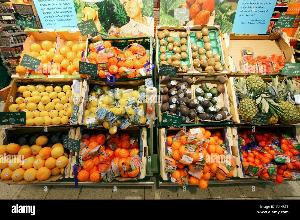avocado: (196, 78, 232, 126), (162, 79, 196, 125)
kiwi: (190, 24, 222, 74), (158, 28, 192, 74)
lemon: (4, 80, 80, 126), (82, 85, 158, 127)
orange: (155, 127, 233, 188), (1, 128, 76, 182), (72, 132, 146, 184), (235, 124, 300, 182), (85, 40, 153, 82), (19, 32, 53, 76), (54, 38, 86, 76)
pineapple: (232, 80, 300, 122)
